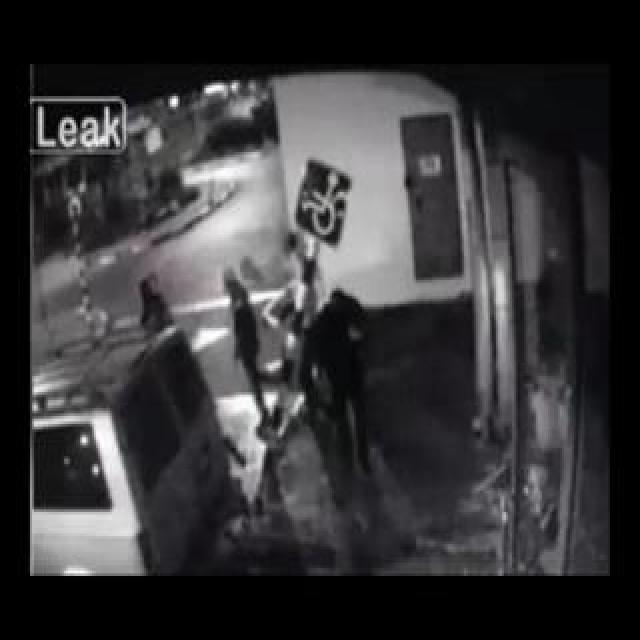thief: (298, 260, 367, 355), (114, 270, 180, 337), (202, 250, 254, 326)
